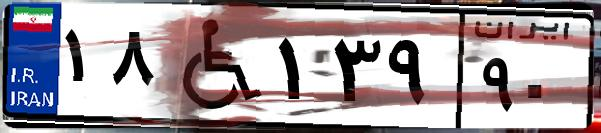0: (525, 38, 570, 115)
1: (270, 28, 330, 110), (57, 26, 110, 100)
3: (330, 28, 385, 110)
8: (110, 28, 158, 98)
9: (385, 28, 445, 110), (475, 38, 525, 113)
ژ (معلولین و جانبازان): (158, 12, 270, 120)
